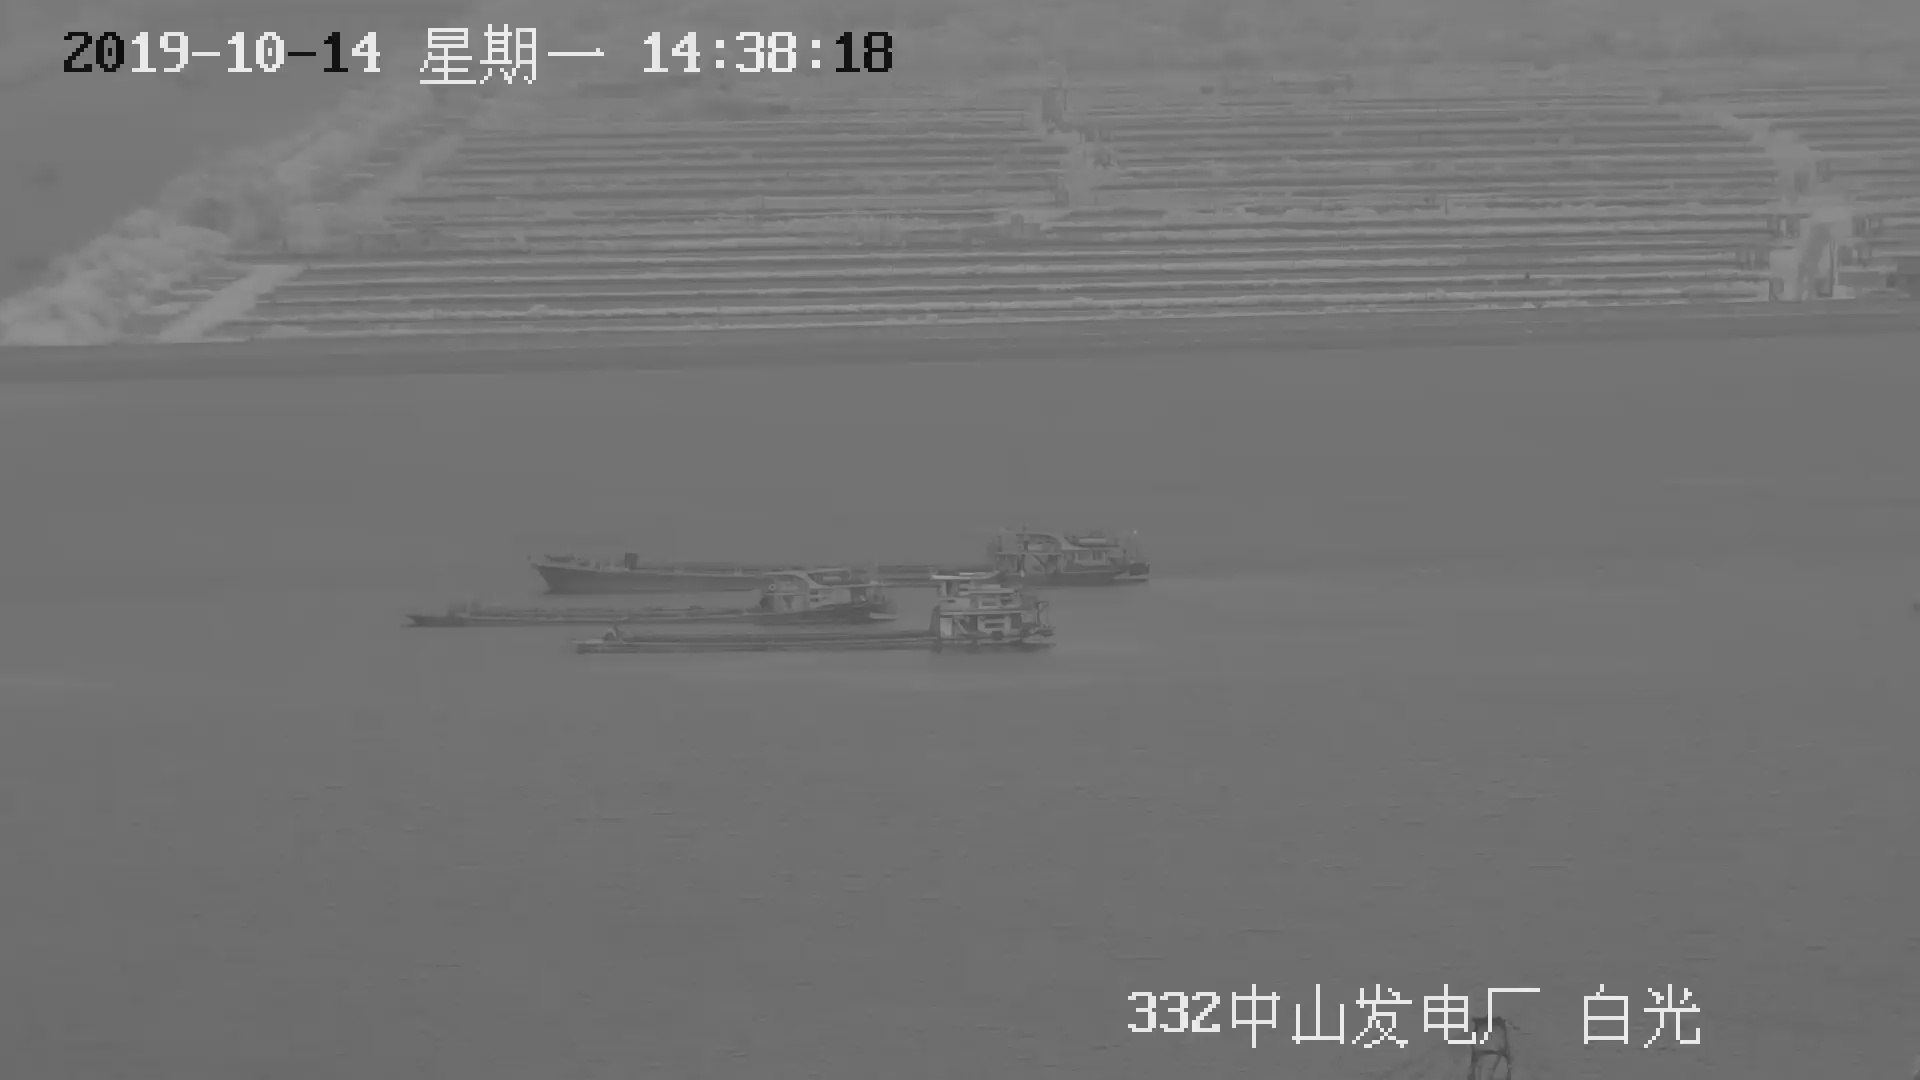ship: (524, 524, 1149, 587), (574, 582, 1054, 661), (409, 578, 901, 630)
